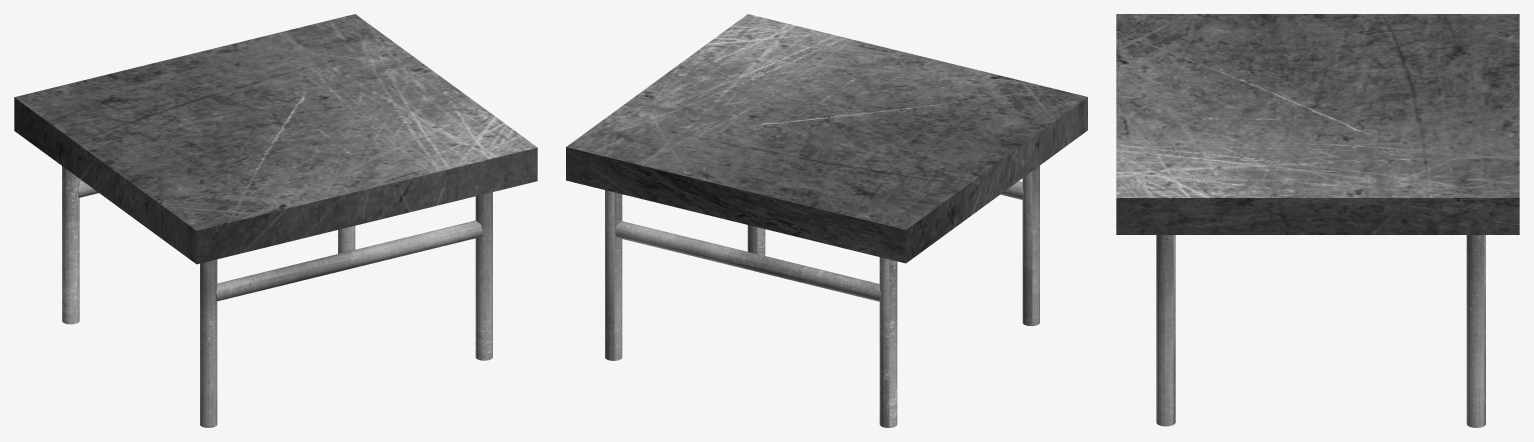
Rendered from basement table 2.fbx.
The picture shows the model from 3 angles, left to right: view 1: azimuth 30°, elevation 25°; view 2: azimuth 150°, elevation 25°; view 3: azimuth 270°, elevation 25°; orthographic projection. The views are drawn at different scales.
Visible parts, largest first — view 1: pCube1, polySurface1, polySurface6; view 2: pCube1, polySurface6, polySurface1; view 3: pCube1, polySurface6, polySurface1.
Part boxes in pixels (x1,y1,x2,y2): pCube1: (14,14,537,264); polySurface1: (200,192,492,427); polySurface6: (62,166,355,324); pCube1: (566,14,1087,263); polySurface6: (605,190,897,427); polySurface1: (747,166,1039,325); pCube1: (1116,14,1519,234); polySurface6: (1466,235,1485,427); polySurface1: (1156,235,1175,426).
Size of the model in its own units: 5.41 by 3.31 by 5.01.
Materials: 1 (1 with a texture image).
